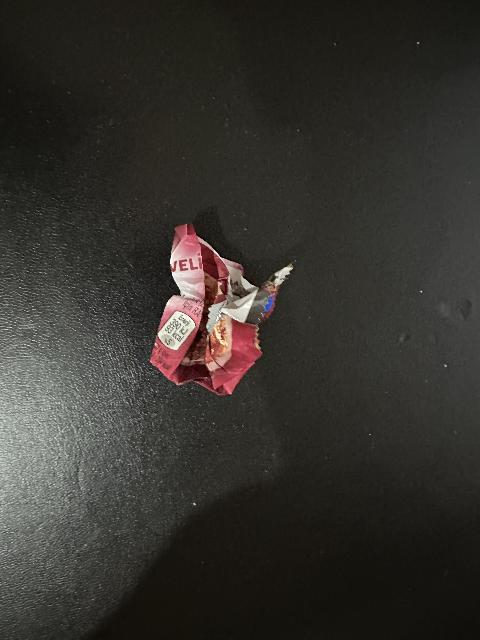Plastik: (156, 221, 287, 394)
